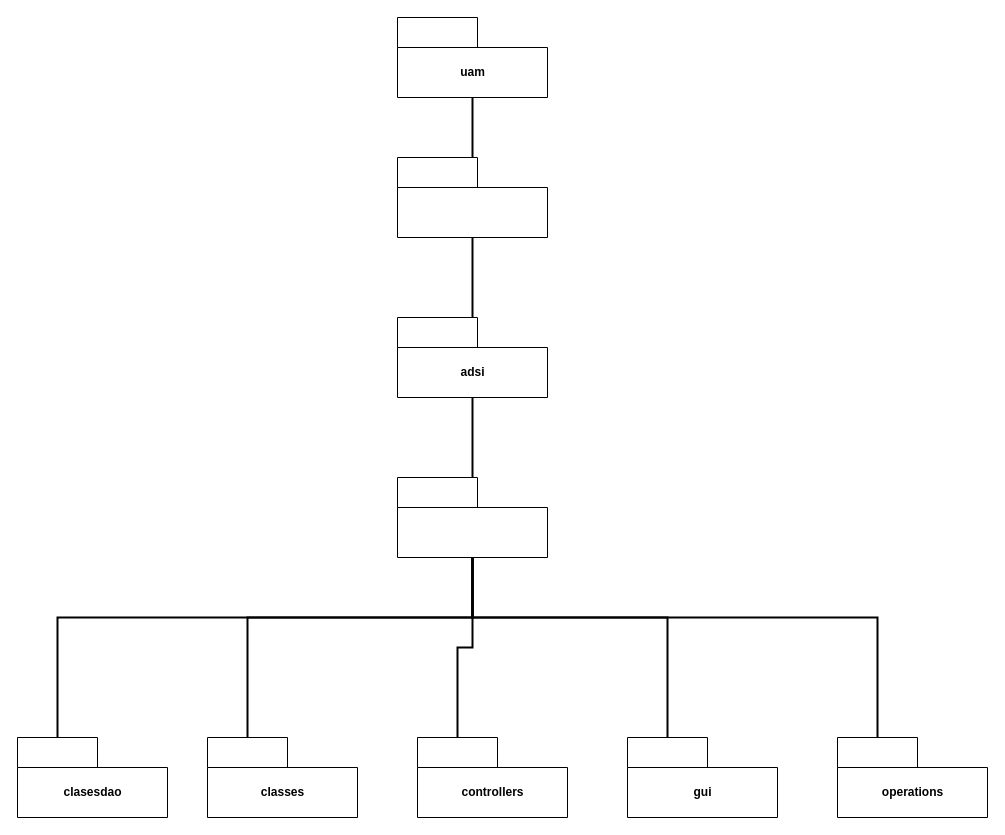
Some shapes in this 1005 by 835 pixel diagram are drawn without their labels. Each missing label, with the centre of its shape:
azc: the point at 472,197
smartscheduler: the point at 472,517
